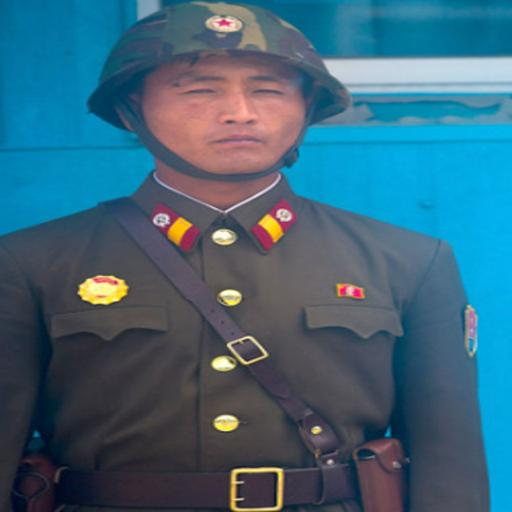north army: (25, 14, 490, 512)
